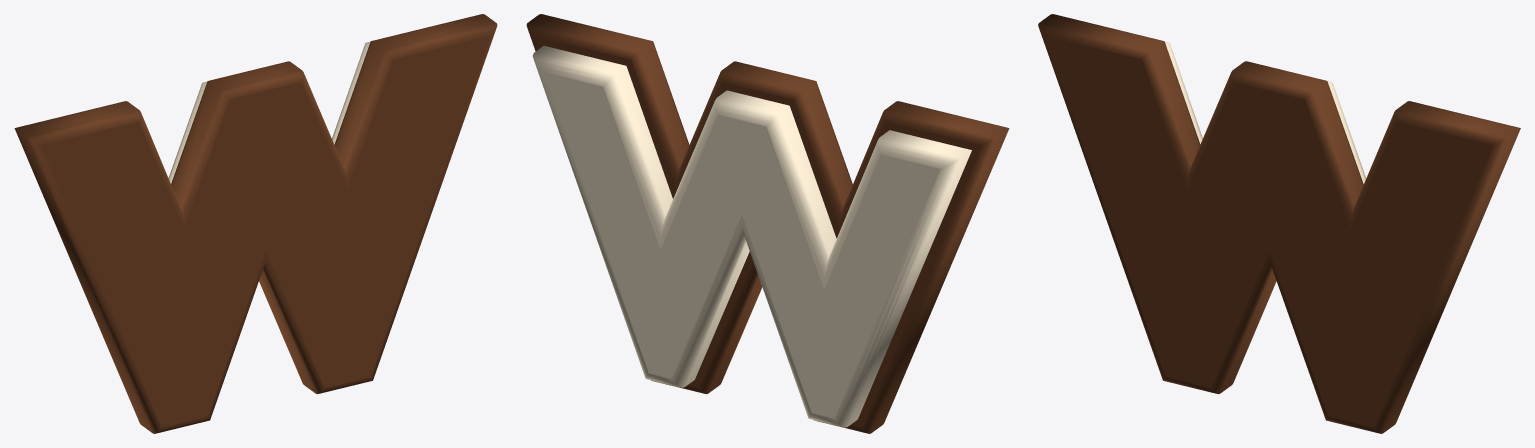
Rendered from Letter_W.fbx.
3 views of the same model, side by side, from view 1: azimuth 30°, elevation 25°; view 2: azimuth 150°, elevation 25°; view 3: azimuth 330°, elevation 25° (orthographic).
Parts seen in each view (by area): view 1: Letter_W; view 2: Letter_W; view 3: Letter_W.
Boxes of the visible parts, <box> form: Letter_W: <box>14,14,497,433</box>; Letter_W: <box>526,14,1009,433</box>; Letter_W: <box>1038,14,1520,433</box>.
Size of the model in its own units: 1.35 by 0.898 by 0.18.
Materials: 1 (1 with a texture image).
